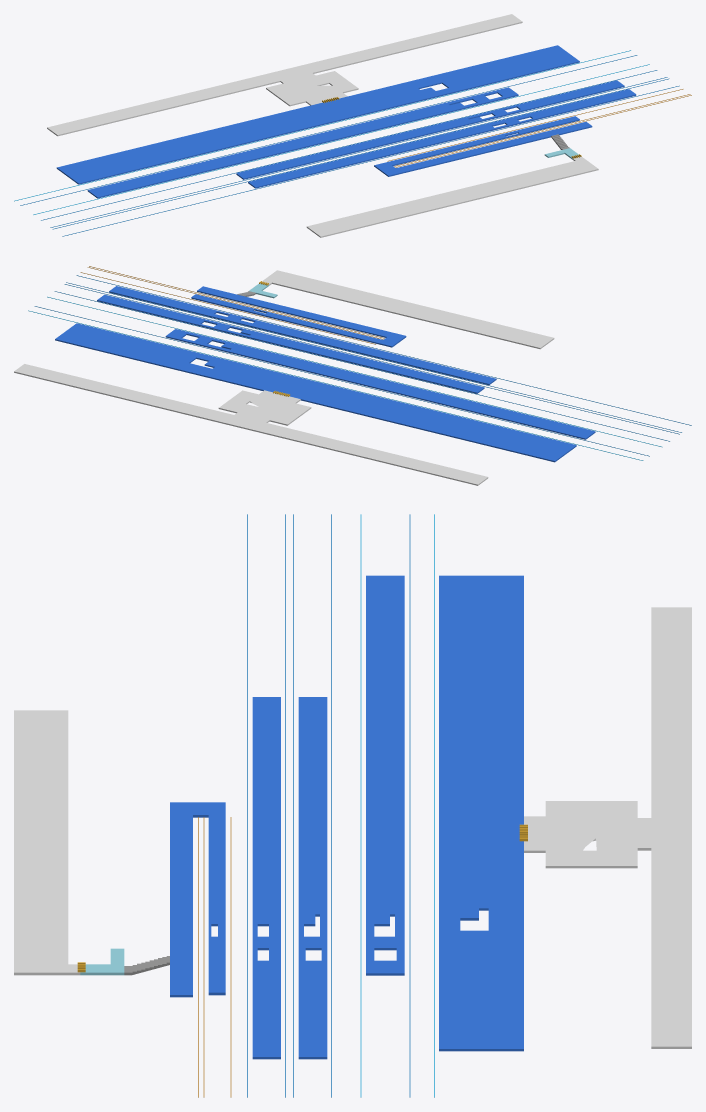
3 views of the same model, one above another, from view 1: azimuth 30°, elevation 25°; view 2: azimuth 150°, elevation 25°; view 3: azimuth 270°, elevation 25° (orthographic). The views are drawn at different scales.
Visible parts, largest first — view 1: 在来線0番ホーム, 北道路, 在来線2,3番ホーム, 南道路, 在来線6,7番ホーム, 在来線4,5番ホーム, 在来線8,9,10番ホーム, 中央口前通路, JR東海道本線米原方面, JR東海道本線大阪方面, JR東海道本線大阪方面.002, JR湖西線堅田方面 (+3 smaller); view 2: 在来線0番ホーム, 北道路, 在来線2,3番ホーム, 南道路, 在来線6,7番ホーム, 在来線4,5番ホーム, 在来線8,9,10番ホーム, 中央口前通路, JR湖西線堅田方面.001, JR東海道本線大阪方面, JR東海道本線大阪方面.002, JR東海道本線米原方面 (+3 smaller); view 3: 在来線0番ホーム, 北道路, 在来線2,3番ホーム, 南道路, 在来線4,5番ホーム, 在来線6,7番ホーム, 在来線8,9,10番ホーム, 中央口前通路, JR東海道本線米原方面, JR湖西線堅田方面.001.
Boxes of the visible parts, x1,y1,x2,y2 form: 在来線0番ホーム: (56, 45, 579, 184); 北道路: (47, 14, 522, 136); 在来線2,3番ホーム: (87, 87, 518, 198); 南道路: (306, 156, 598, 237); 在来線6,7番ホーム: (248, 89, 636, 188); 在来線4,5番ホーム: (236, 80, 624, 179); 在来線8,9,10番ホーム: (374, 116, 592, 176); 中央口前通路: (266, 71, 358, 106); JR東海道本線米原方面: (20, 55, 637, 205); JR東海道本線大阪方面: (41, 70, 657, 220); JR東海道本線大阪方面.002: (52, 78, 669, 229); JR湖西線堅田方面: (14, 50, 630, 201); 在来線0番ホーム: (55, 323, 576, 462); 北道路: (14, 364, 488, 485); 在来線2,3番ホーム: (165, 329, 595, 439); 南道路: (262, 270, 554, 349); 在来線6,7番ホーム: (109, 286, 496, 385); 在来線4,5番ホーム: (97, 294, 484, 393); 在来線8,9,10番ホーム: (191, 286, 406, 347); 中央口前通路: (218, 390, 311, 425); JR湖西線堅田方面.001: (47, 296, 662, 447); JR東海道本線大阪方面: (54, 291, 669, 441); JR東海道本線大阪方面.002: (66, 282, 681, 432); JR東海道本線米原方面: (34, 306, 649, 456); 在来線0番ホーム: (439, 575, 523, 1051); 北道路: (637, 607, 691, 1048); 在来線2,3番ホーム: (366, 575, 404, 975); 南道路: (14, 710, 80, 975); 在来線4,5番ホーム: (298, 697, 327, 1059); 在来線6,7番ホーム: (252, 697, 280, 1059); 在来線8,9,10番ホーム: (170, 802, 225, 997); 中央口前通路: (524, 801, 637, 868); JR東海道本線米原方面: (409, 514, 410, 1097); JR湖西線堅田方面.001: (360, 514, 361, 1097).
Bounding box in the file's own units: 50850 × 600 × 25000.
